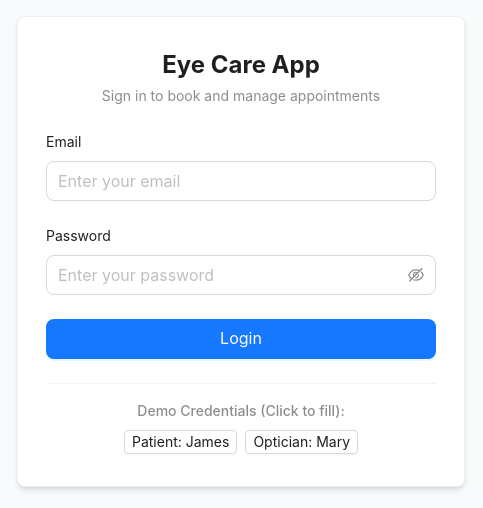
Login Component › renders demo credential buttons and fills inputs when clicked
The image size is (483, 508).
Expected: the button "Optician: Mary" is shown, [245,430,358,454]
Click the button "Patient: James" at coordinates (181, 442), box [124,430,237,454]
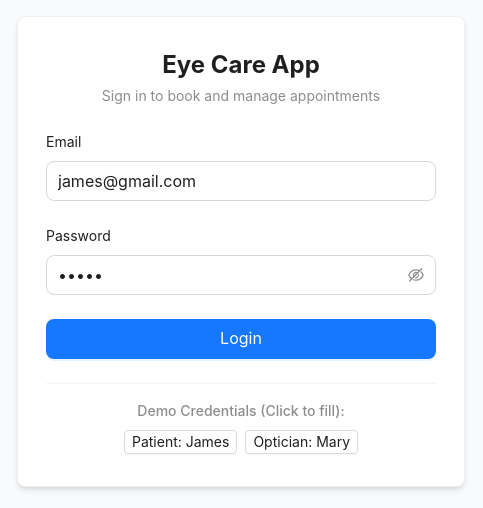
Expected: the field with placeholder "Enter your email" holds "james@gmail.com", [46,160,436,200]
